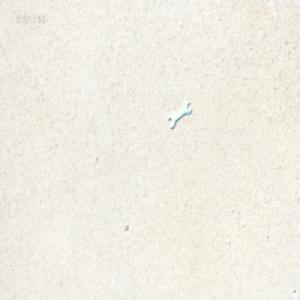Wrench: (166, 99, 189, 127)
